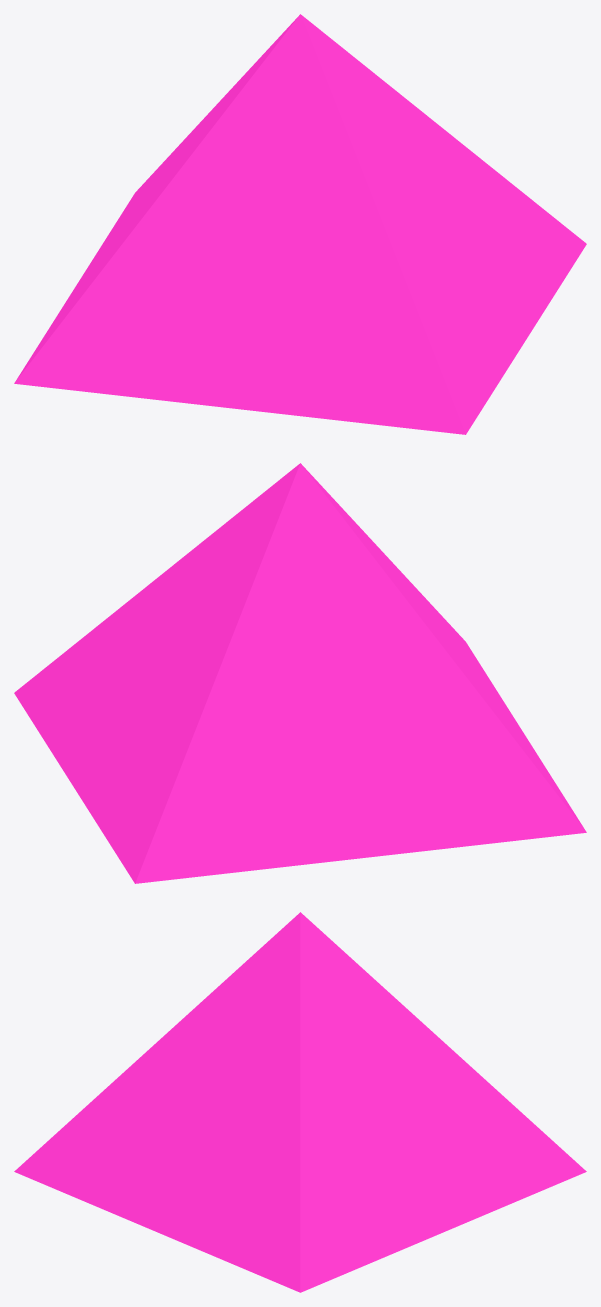
Rendered from pyramidEvent2.glb.
The picture shows the model from 3 angles, top to bottom: view 1: azimuth 30°, elevation 25°; view 2: azimuth 150°, elevation 25°; view 3: azimuth 270°, elevation 25°; orthographic projection. The views are drawn at different scales.
Visible parts, largest first — view 1: Cone; view 2: Cone; view 3: Cone.
Boxes of the visible parts, bbox=[...] form: Cone: bbox=[14, 14, 586, 434]; Cone: bbox=[14, 463, 586, 883]; Cone: bbox=[14, 912, 586, 1292].
Size of the model in its own units: 2.66 by 1.33 by 2.66.
